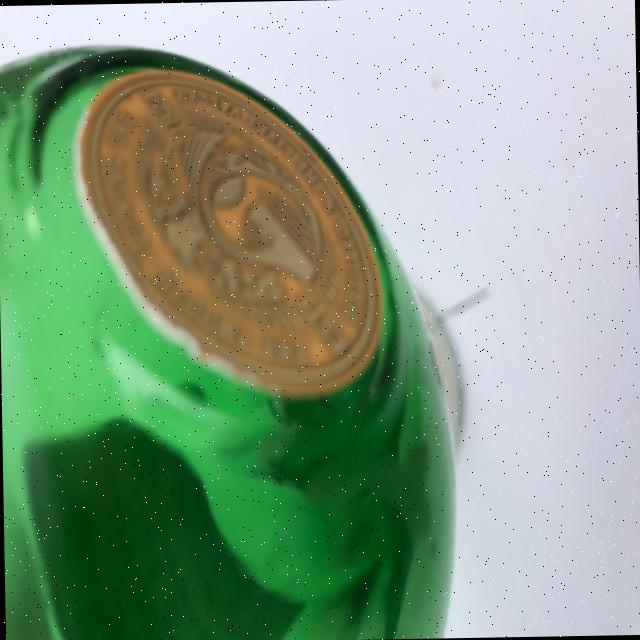glass: (0, 37, 471, 640)
